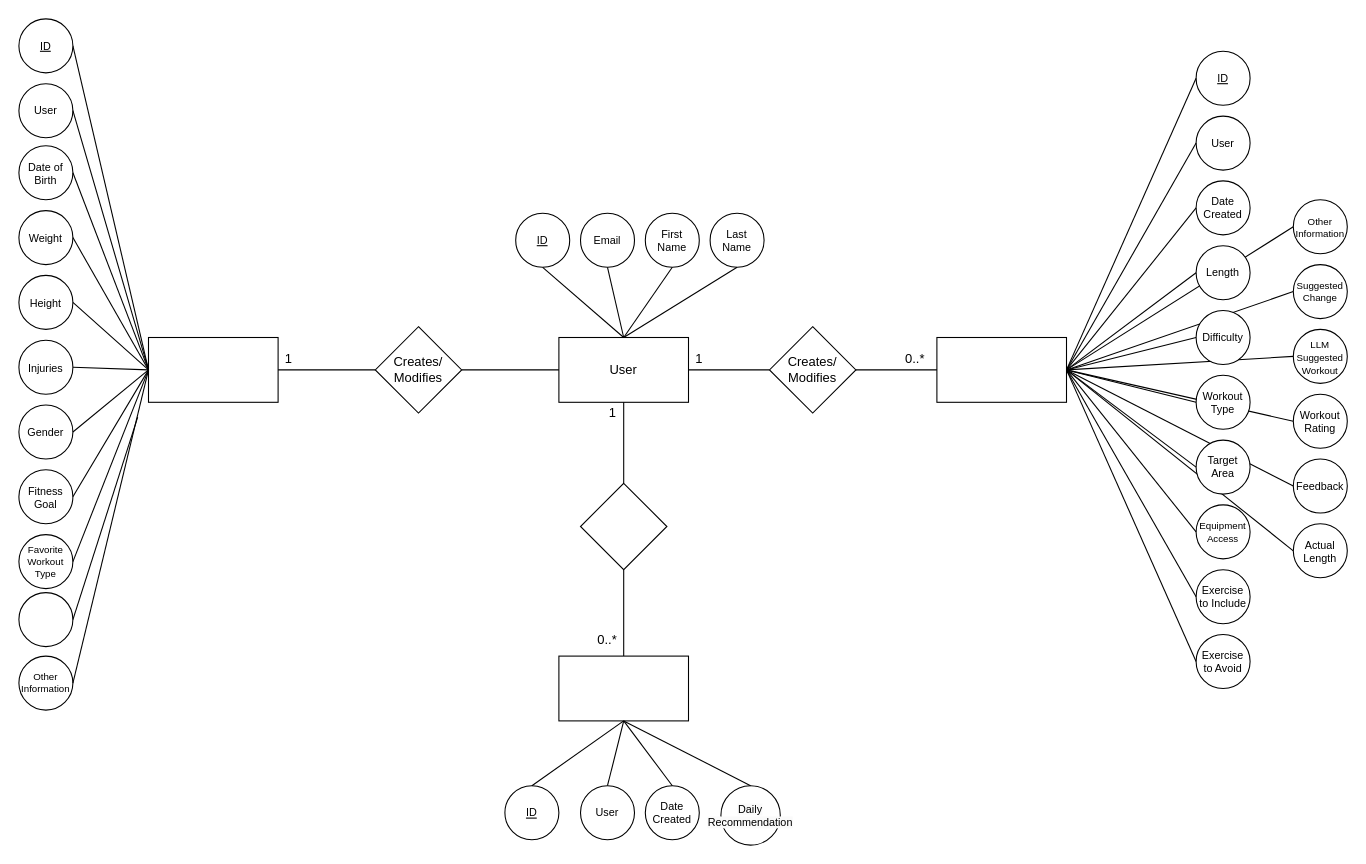
Image size: 1366x864. Some labels were removed from this diagram. Here are the shapes that lost their labels. From the top down, the centre of each, then its label:
(212,369): Health Profile
(1001,369): Workout
(623,526): Gets
(45,619): Workout Experience
(623,688): Recommendation
